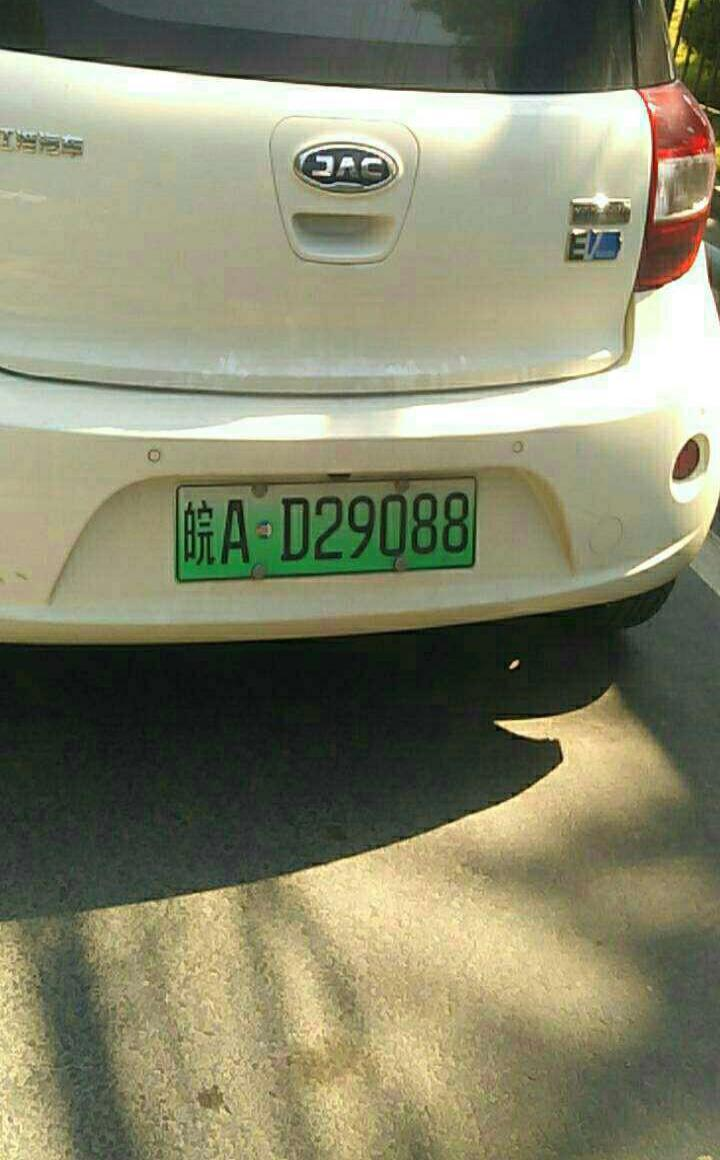car: (167, 484, 482, 575)
